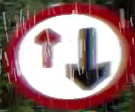Two way: (7, 3, 133, 108)
